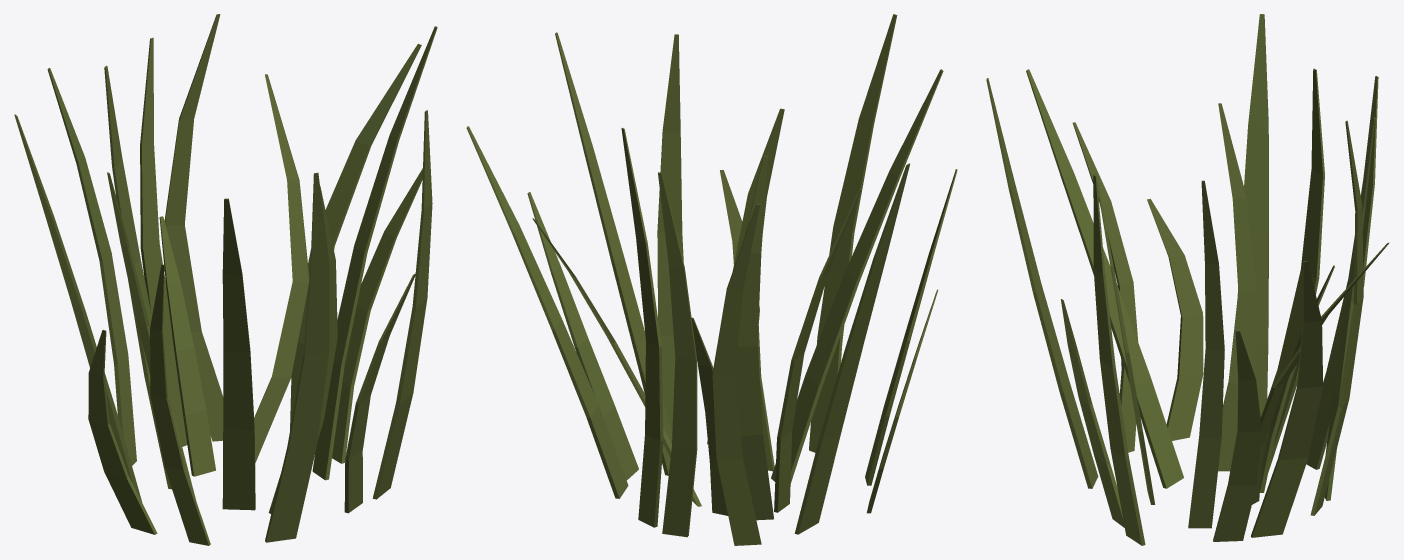
Rendered from plant_010a_ribbon_grass.glb.
3 views of the same model, side by side, from view 1: azimuth 30°, elevation 25°; view 2: azimuth 150°, elevation 25°; view 3: azimuth 270°, elevation 25° (orthographic). The views are drawn at different scales.
Parts seen in each view (by area): view 1: plant_010a_ribbon_grass__blades; view 2: plant_010a_ribbon_grass__blades; view 3: plant_010a_ribbon_grass__blades.
Part boxes in pixels (x1,y1,x2,y2): plant_010a_ribbon_grass__blades: [14, 14, 437, 545]; plant_010a_ribbon_grass__blades: [466, 14, 957, 545]; plant_010a_ribbon_grass__blades: [986, 14, 1389, 545].
Size of the model in its own units: 0.8883 by 0.8301 by 0.7564.
